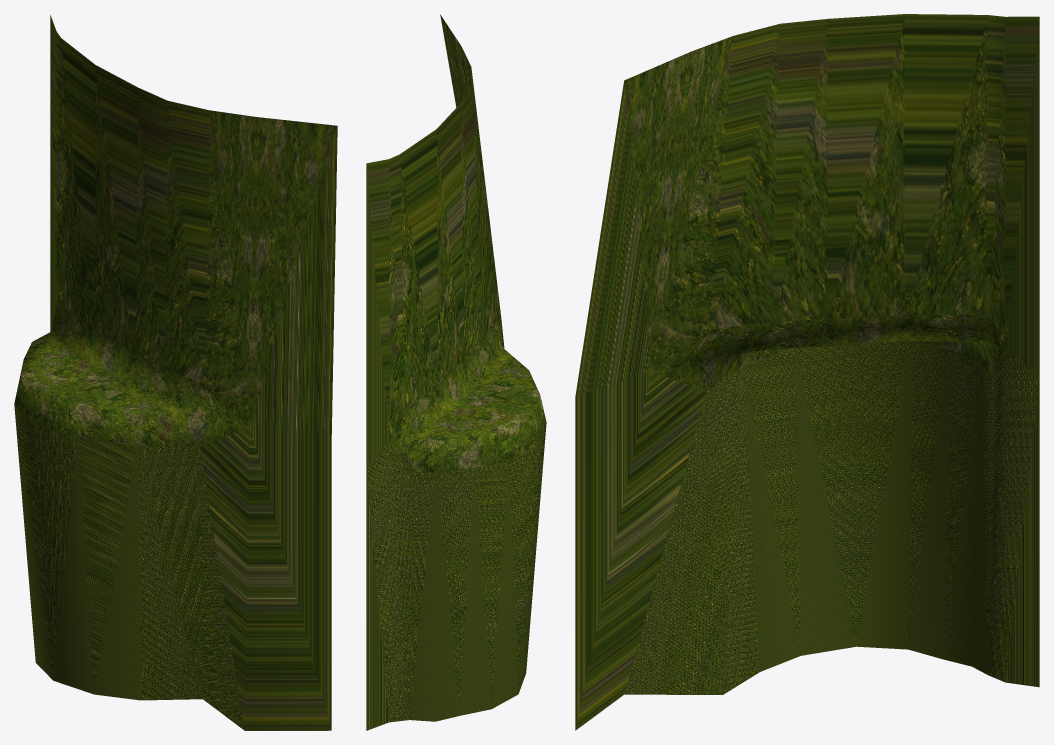
Rendered from OVERHILL_A_01_OH_B_OBJECT52.fbx.
3 renders of one model, left to right at view 1: azimuth 30°, elevation 25°; view 2: azimuth 150°, elevation 25°; view 3: azimuth 270°, elevation 25°, orthographic. The views are drawn at different scales.
Visible parts, largest first — view 1: OVERHILL_A_01_OH_B_OBJECT52; view 2: OVERHILL_A_01_OH_B_OBJECT52; view 3: OVERHILL_A_01_OH_B_OBJECT52.
Part boxes in pixels (x1=…): OVERHILL_A_01_OH_B_OBJECT52: x1=14, y1=15, x2=337, y2=730; OVERHILL_A_01_OH_B_OBJECT52: x1=366, y1=14, x2=546, y2=730; OVERHILL_A_01_OH_B_OBJECT52: x1=575, y1=14, x2=1039, y2=730.
Bounding box in the file's own units: 38479 × 106976 × 66911.
1 material, 1 textured.
